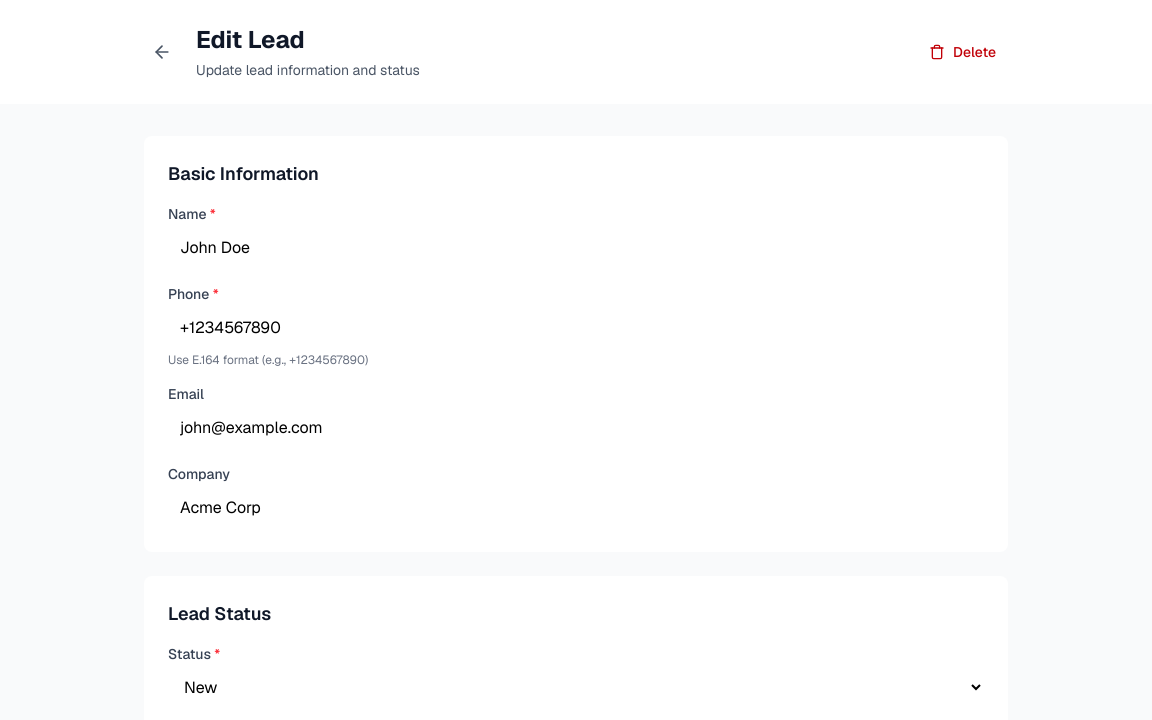
Test case: EditLeadPage › Lead Deletion › should cancel deletion when cancel is clicked
expect the field showing "John Doe" is shown: met, box top-left (168, 228), bottom-right (984, 268)
Click the button "Delete": {"x": 962, "y": 52} top-left (917, 34), bottom-right (1008, 70)
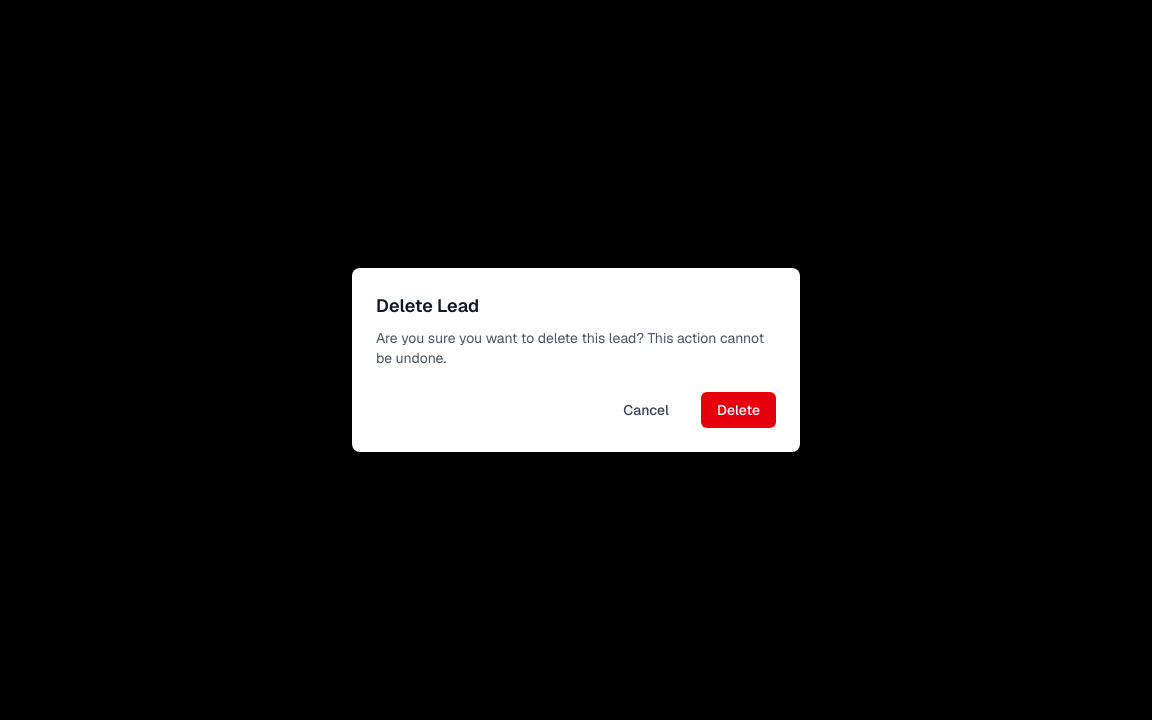
Click the button "Cancel": {"x": 646, "y": 410} top-left (607, 392), bottom-right (685, 428)
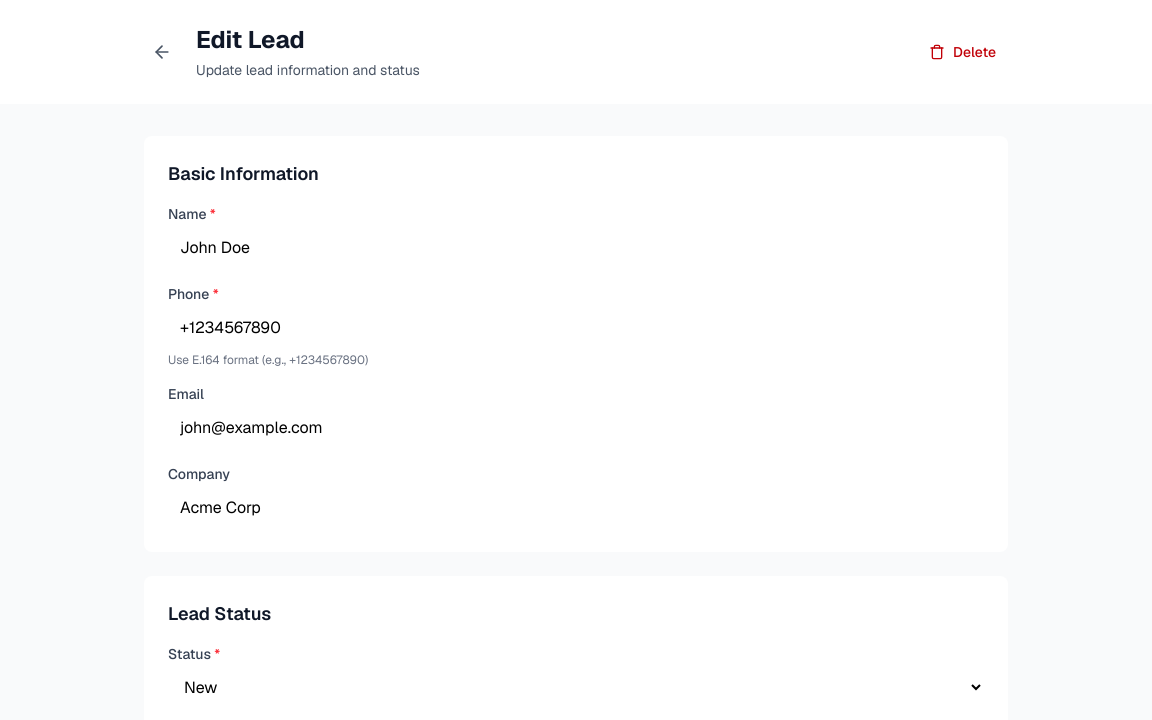
expect the text "Are you sure you want to delete this lead" is gone: met
